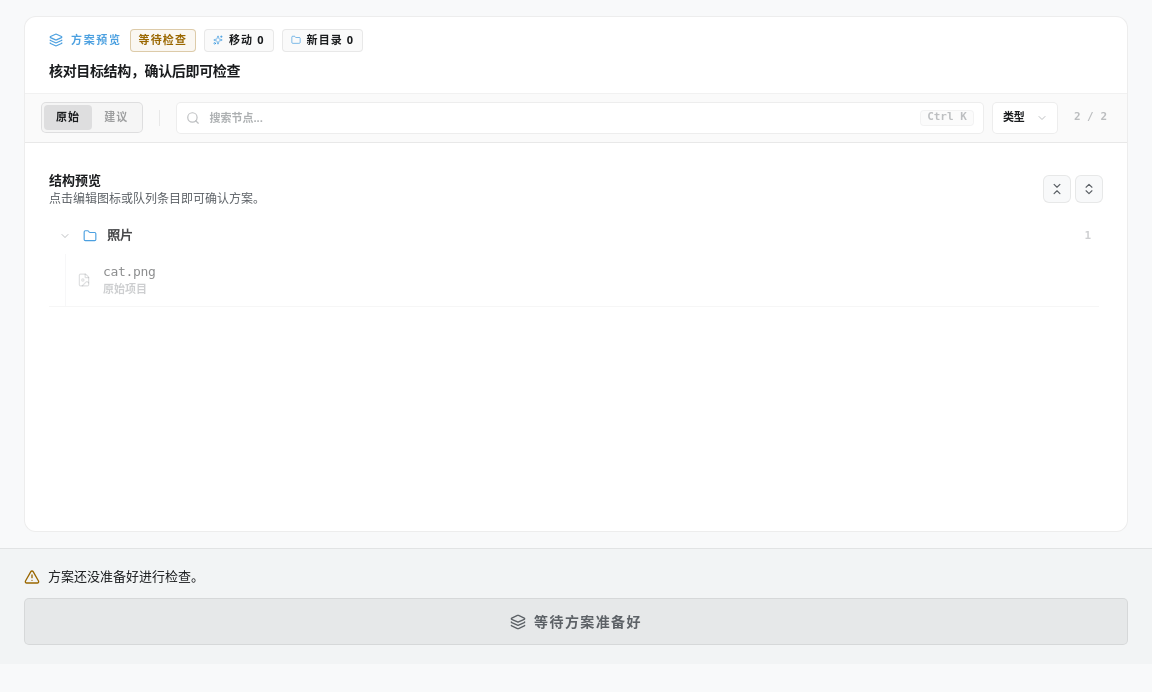
PreviewPanel › shows after-tree empty state when the plan is still generating
This screenshot has width=1152, height=692.
Click the button "建议" at (116, 118), box [92,105,140,130]
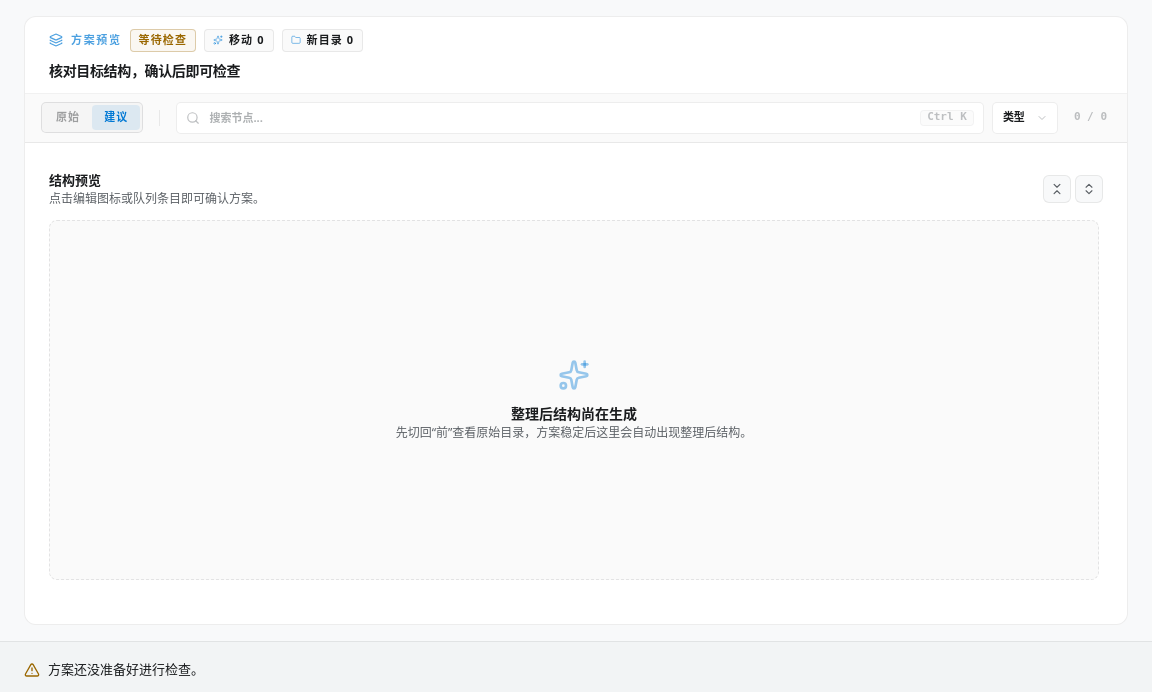
Now the text "整理后结构尚在生成" is shown, box [511,404,637,422]
Now the text "先切回“前”查看原始目录，方案稳定后这里会自动出现整理后结构。" is shown, box [396,424,752,442]
